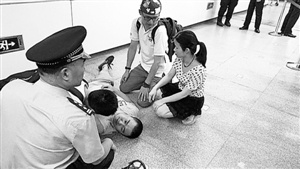falling: (71, 55, 143, 134)
